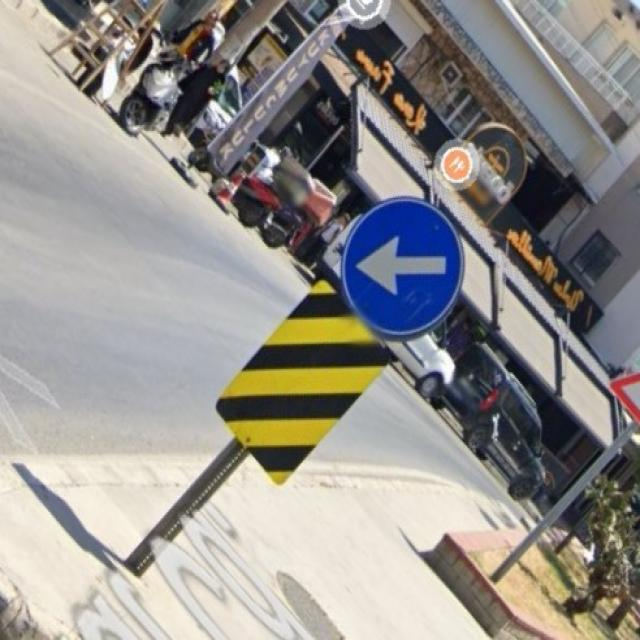Turn Left: (337, 208, 469, 333)
